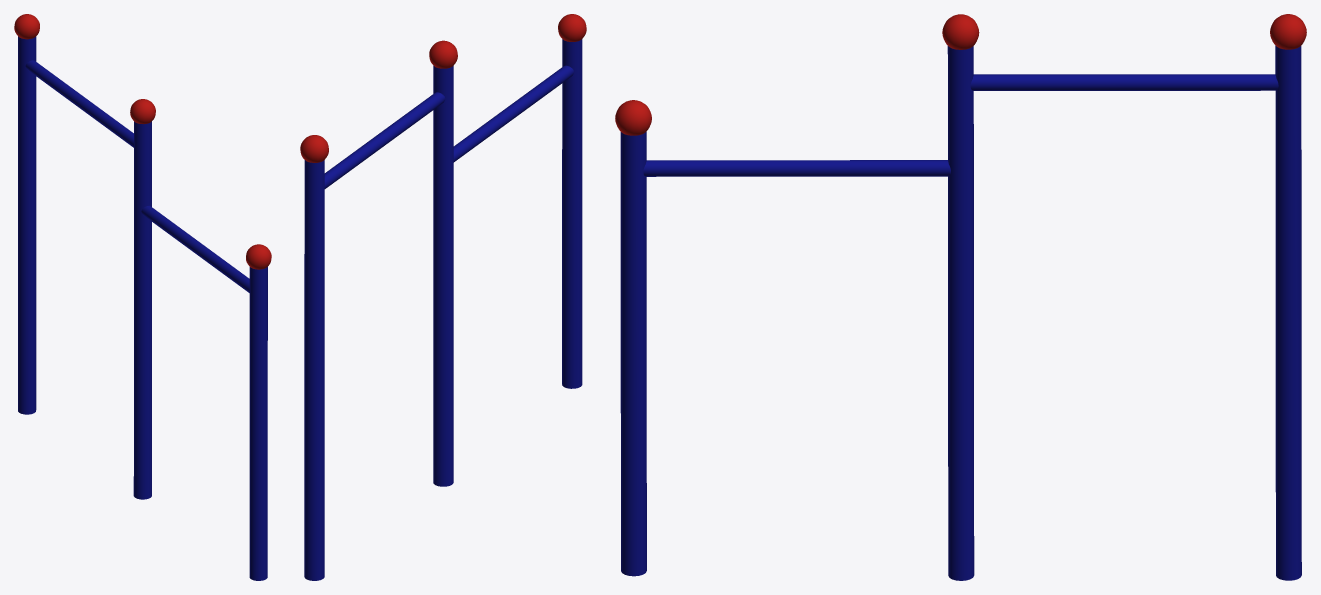
The model's file is bar_1_49a4607ebc.glb.
The picture shows the model from 3 angles, left to right: view 1: azimuth 30°, elevation 25°; view 2: azimuth 150°, elevation 25°; view 3: azimuth 270°, elevation 25°; orthographic projection. The views are drawn at different scales.
Visible parts, largest first — view 1: horizontal_bar_1; view 2: horizontal_bar_1; view 3: horizontal_bar_1.
Part boxes in pixels (bbox=[...]): horizontal_bar_1: bbox=[14, 14, 271, 580]; horizontal_bar_1: bbox=[300, 14, 586, 580]; horizontal_bar_1: bbox=[615, 14, 1306, 580].
Size of the model in its own units: 0.1222 by 2.05 by 2.29.
